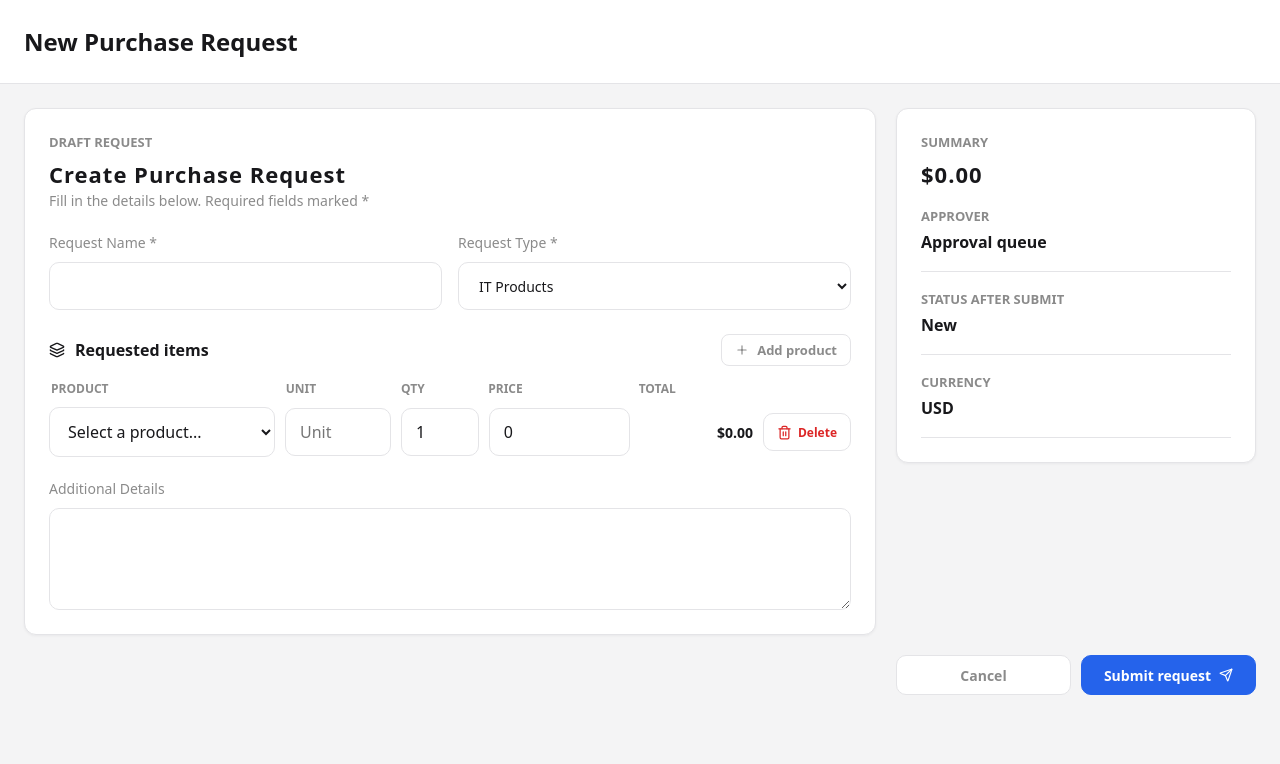
Test: RequestForm › validates required fields before creating
Click the button "Submit request".
click(1168, 675)  # box top-left (1081, 655), bottom-right (1256, 695)
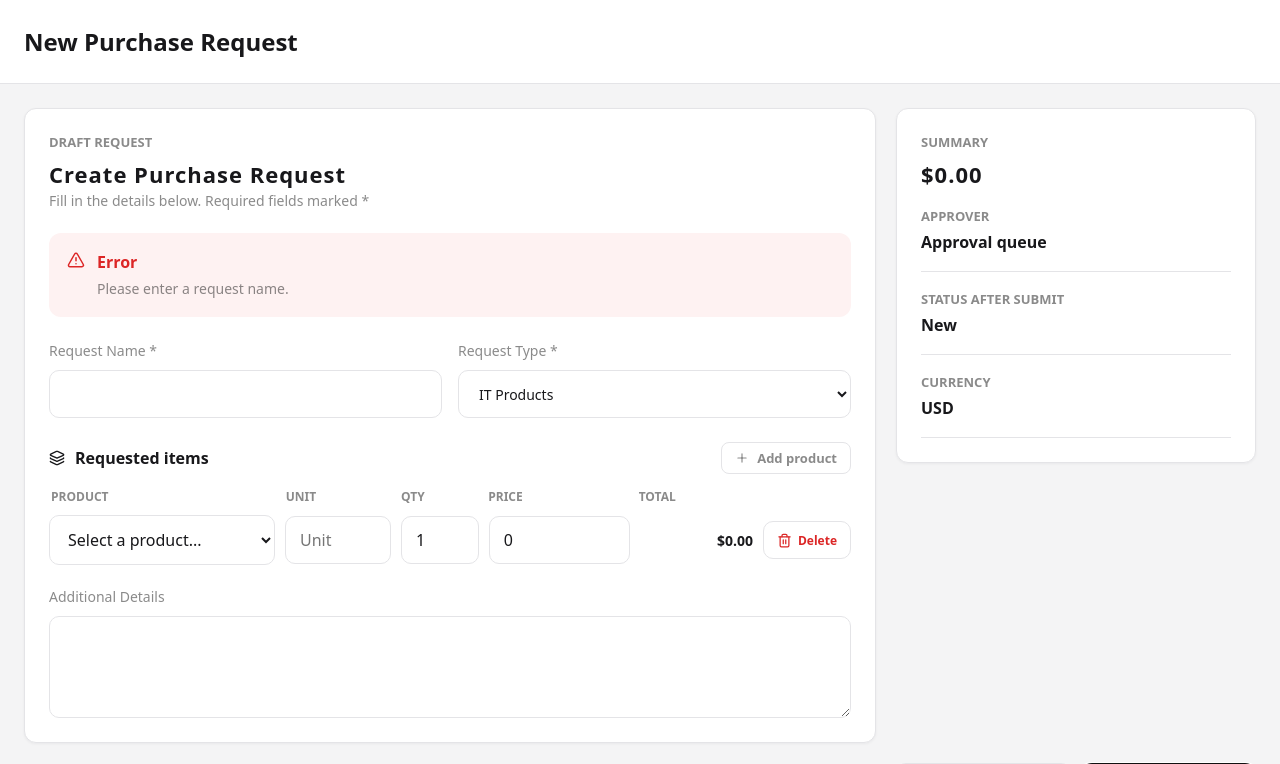
Expected: the text "Please enter a request name." is shown, top-left (97, 279), bottom-right (289, 298)
